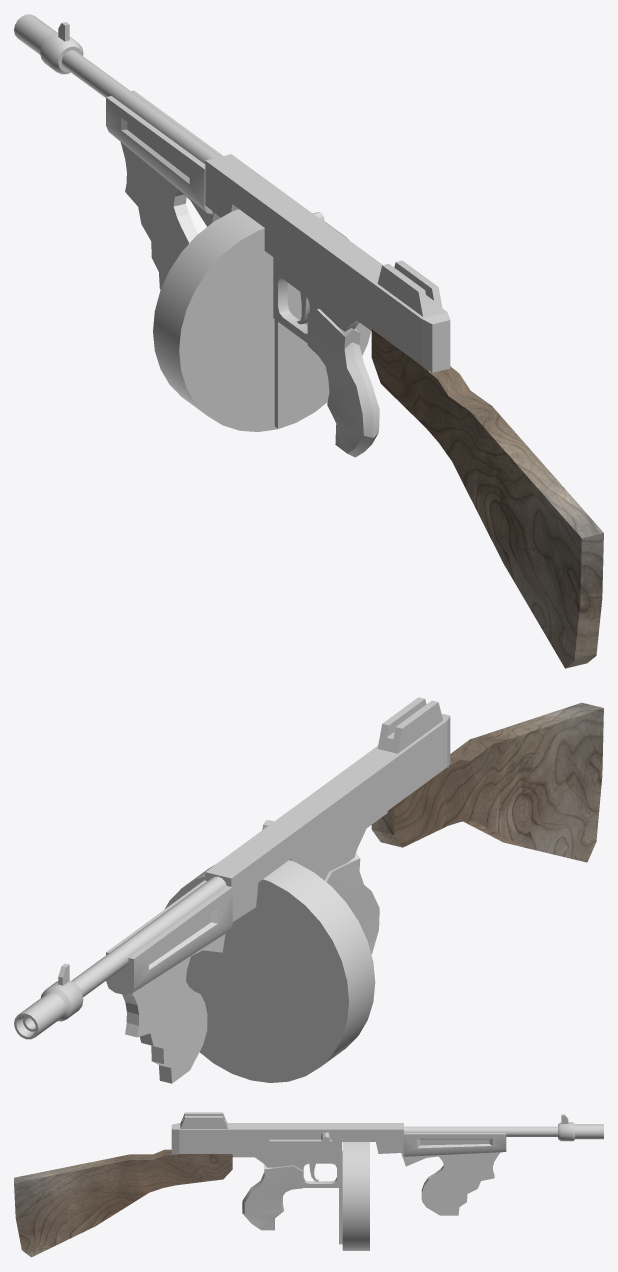
Rendered from ametralladora_4.dae.
3 views of the same model, one above another, from view 1: azimuth 30°, elevation 25°; view 2: azimuth 150°, elevation 25°; view 3: azimuth 270°, elevation 25° (orthographic). The views are drawn at different scales.
Parts seen in each view (by area): view 1: Culata, cargador, cobertura, Mango, Agarre_2_NoUSo, Agarre, cañon, Mecanismo_Disparo, Mira, boca, estria; view 2: cargador, Culata, cobertura, Agarre_2_NoUSo, Agarre, cañon, Mango, Mira, boca, Mecanismo_Disparo; view 3: Culata, cobertura, Agarre_2_NoUSo, cargador, Mango, Agarre, Mecanismo_Disparo, cañon, boca, Mira, estria.
Part boxes in pixels (<box>): Culata: <box>371,329,603,668</box>; cargador: <box>153,209,371,431</box>; cobertura: <box>205,154,450,372</box>; Mango: <box>307,309,379,457</box>; Agarre_2_NoUSo: <box>120,142,220,289</box>; Agarre: <box>106,90,222,213</box>; cañon: <box>61,50,219,163</box>; Mecanismo_Disparo: <box>273,257,371,342</box>; Mira: <box>377,260,442,316</box>; boca: <box>14,14,83,74</box>; estria: <box>274,319,283,428</box>; cargador: <box>164,860,375,1082</box>; Culata: <box>371,702,603,862</box>; cobertura: <box>205,713,450,921</box>; Agarre_2_NoUSo: <box>122,934,225,1083</box>; Agarre: <box>106,880,232,994</box>; cañon: <box>23,876,226,1031</box>; Mango: <box>324,853,379,954</box>; Mira: <box>377,697,442,753</box>; boca: <box>14,981,83,1039</box>; Mecanismo_Disparo: <box>308,811,387,880</box>; Culata: <box>14,1149,232,1257</box>; cobertura: <box>171,1123,403,1154</box>; Agarre_2_NoUSo: <box>401,1152,500,1215</box>; cargador: <box>342,1142,369,1250</box>; Mango: <box>242,1164,302,1230</box>; Agarre: <box>403,1133,506,1156</box>; Mecanismo_Disparo: <box>232,1154,341,1187</box>; cañon: <box>404,1126,557,1136</box>; boca: <box>558,1122,603,1141</box>; Mira: <box>180,1112,227,1128</box>; estria: <box>339,1150,342,1244</box>.
Size of the model in its own units: 1.89 by 9.47 by 2.47.
